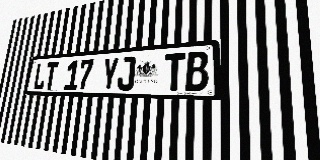1: (64, 60, 80, 90)
7: (77, 59, 94, 90)
B: (185, 51, 208, 91)
J: (116, 56, 136, 90)
L: (33, 63, 47, 90)
T: (164, 53, 186, 91), (43, 62, 59, 90)
Y: (101, 57, 119, 90)
